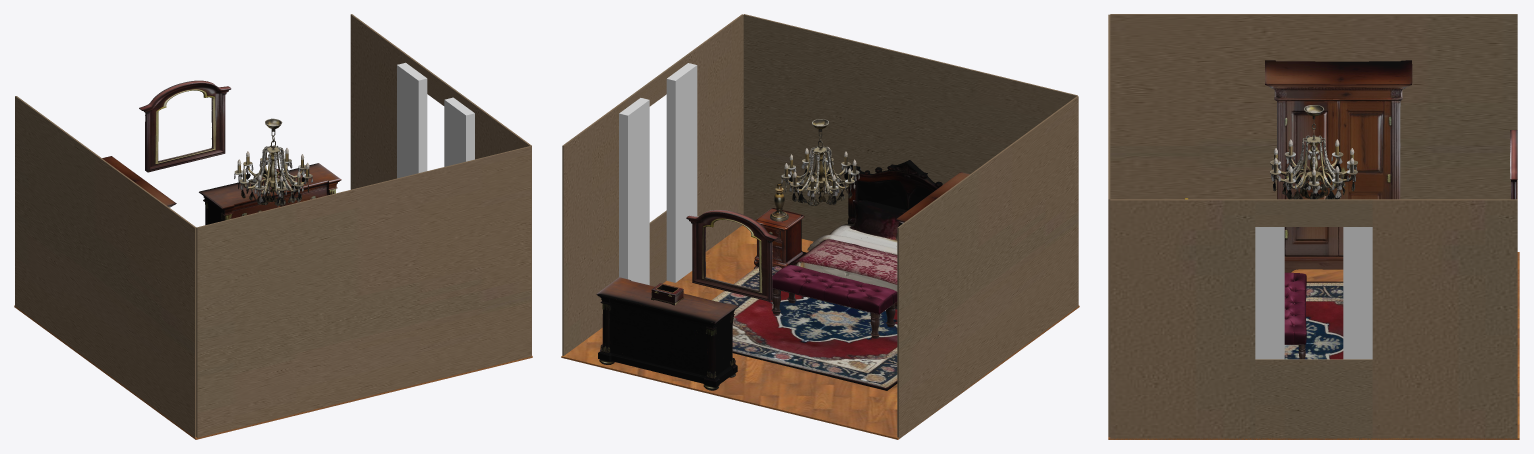
The model's file is text-atmosphere-bedroom.glb.
3 views of the same model, side by side, from view 1: azimuth 30°, elevation 25°; view 2: azimuth 150°, elevation 25°; view 3: azimuth 270°, elevation 25° (orthographic). The views are drawn at different scales.
Parts seen in each view (by area): view 1: wall_north_01, wall_east_01, wall_west_01, window_curtains_01, geometry_0, geometry_0.003, geometry_0.001, wall_west_04, window_curtains_02, floor_01, wall_west_03, geometry_0.005; view 2: wall_east_01, wall_north_01, floor_01, geometry_0.006, wall_west_01, geometry_0.003, wall_west_04, geometry_0.002, window_curtains_02, window_curtains_01, geometry_0.004, geometry_0 (+6 smaller); view 3: wall_east_01, wall_west_04, wall_west_01, geometry_0.005, wall_west_02, window_curtains_01, window_curtains_02, geometry_0.001, wall_west_03, geometry_0.006, floor_01, geometry_0.004 (+2 smaller).
Boxes of the visible parts, left/top/right/bottom form: wall_north_01: left=196, top=146, right=531, bottom=437; wall_east_01: left=15, top=96, right=196, bottom=437; wall_west_01: left=350, top=14, right=415, bottom=189; window_curtains_01: left=397, top=62, right=427, bottom=178; geometry_0: left=139, top=80, right=231, bottom=172; geometry_0.003: left=199, top=163, right=341, bottom=225; geometry_0.001: left=234, top=118, right=312, bottom=205; wall_west_04: left=466, top=99, right=531, bottom=355; window_curtains_02: left=444, top=97, right=474, bottom=166; floor_01: left=14, top=305, right=532, bottom=439; wall_west_03: left=414, top=61, right=467, bottom=106; geometry_0.005: left=102, top=156, right=176, bottom=207; wall_east_01: left=897, top=96, right=1078, bottom=438; wall_north_01: left=743, top=14, right=1077, bottom=241; floor_01: left=561, top=225, right=1079, bottom=439; geometry_0.006: left=712, top=252, right=897, bottom=390; wall_west_01: left=562, top=99, right=627, bottom=355; geometry_0.003: left=596, top=277, right=738, bottom=390; wall_west_04: left=678, top=14, right=743, bottom=251; geometry_0.002: left=787, top=160, right=942, bottom=309; window_curtains_02: left=666, top=63, right=697, bottom=282; window_curtains_01: left=619, top=98, right=649, bottom=284; geometry_0.004: left=772, top=265, right=897, bottom=338; geometry_0: left=686, top=210, right=778, bottom=301; wall_east_01: left=1110, top=14, right=1517, bottom=199; wall_west_04: left=1110, top=199, right=1255, bottom=439; wall_west_01: left=1372, top=199, right=1517, bottom=439; geometry_0.005: left=1265, top=60, right=1412, bottom=272; wall_west_02: left=1255, top=359, right=1372, bottom=439; window_curtains_01: left=1343, top=227, right=1372, bottom=359; window_curtains_02: left=1255, top=227, right=1284, bottom=359; geometry_0.001: left=1270, top=105, right=1357, bottom=199; wall_west_03: left=1255, top=199, right=1372, bottom=226; geometry_0.006: left=1284, top=281, right=1343, bottom=359; floor_01: left=1108, top=252, right=1519, bottom=439; geometry_0.004: left=1284, top=272, right=1306, bottom=359.
Bounding box in the file's own units: 4.5 × 2.7 × 4.2.
Materials: 19 (19 with a texture image).
